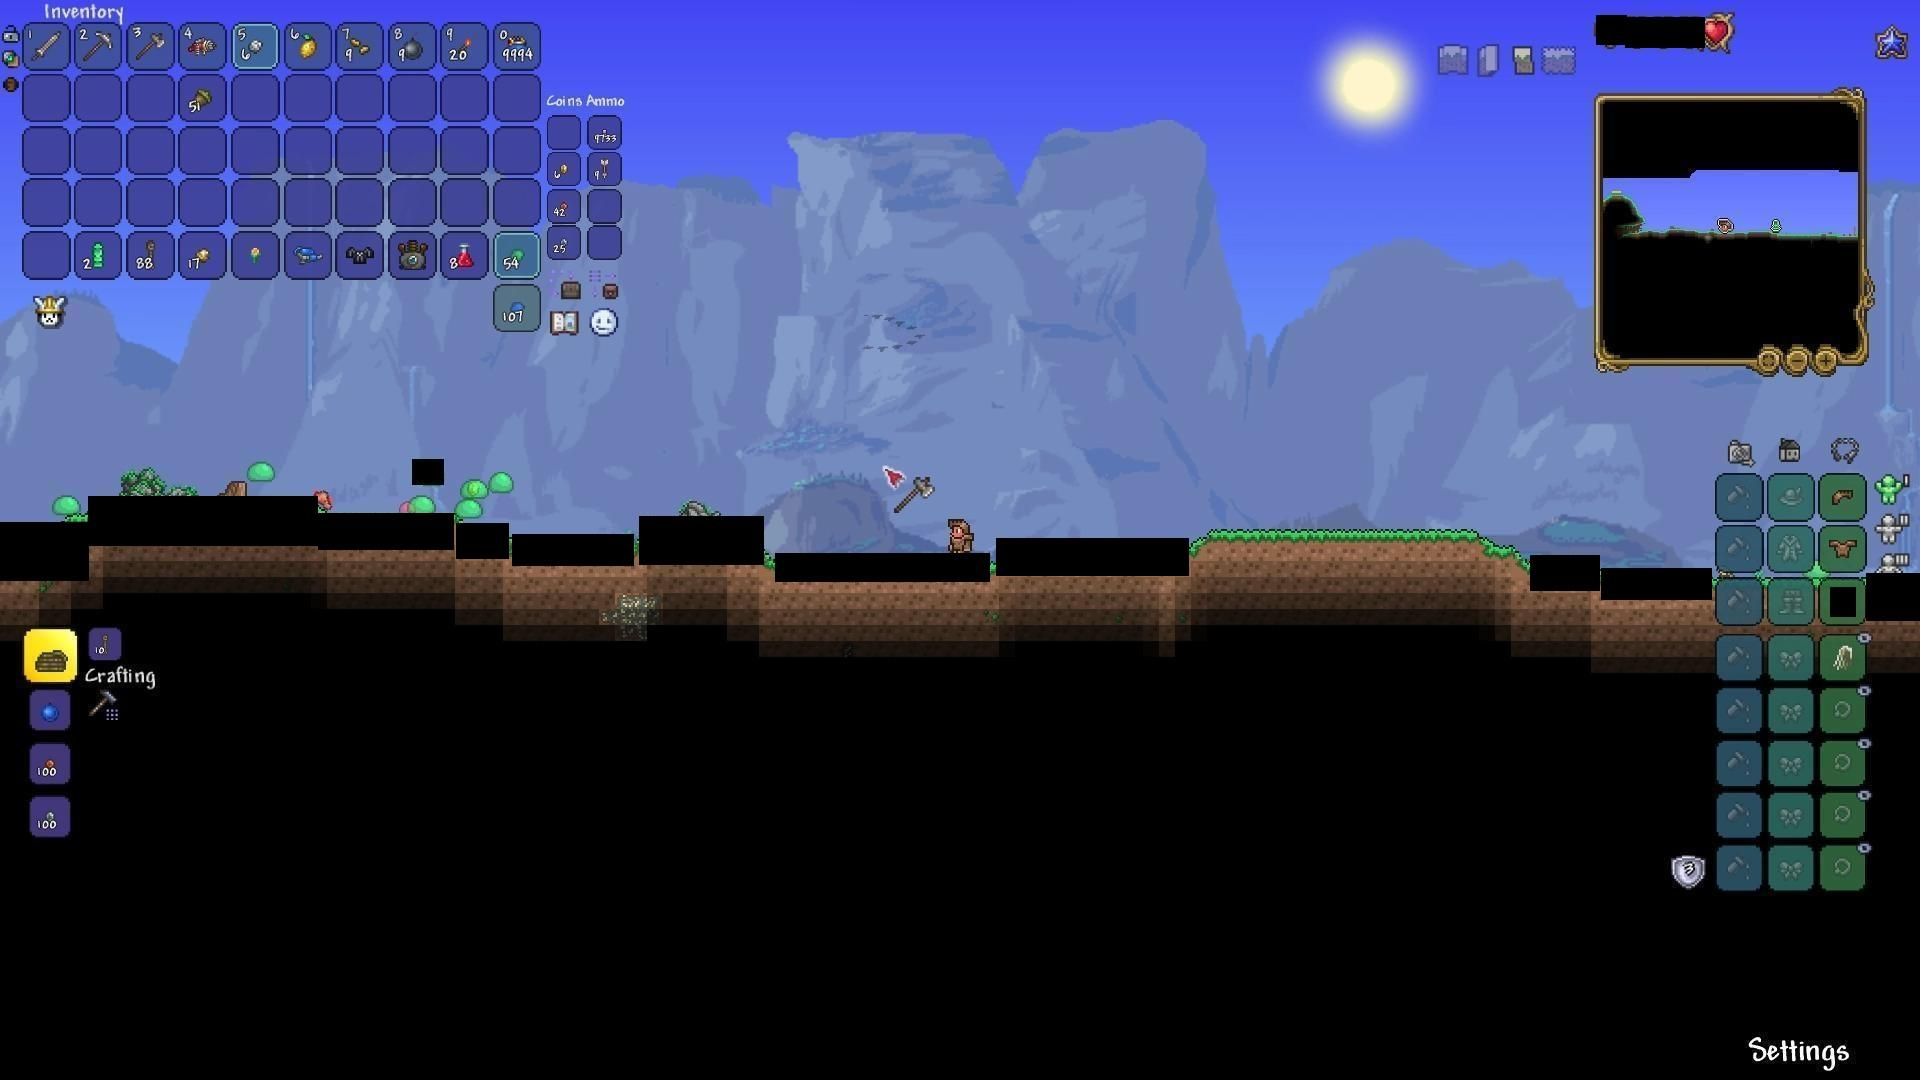breastplate: (1829, 537, 1859, 558)
dirt: (1189, 518, 1527, 578)
heart: (1702, 17, 1731, 47)
helmet: (1828, 483, 1858, 509)
slime: (245, 458, 284, 485), (456, 468, 487, 498), (487, 468, 520, 495), (407, 495, 436, 520), (51, 495, 82, 518), (454, 500, 483, 524)
